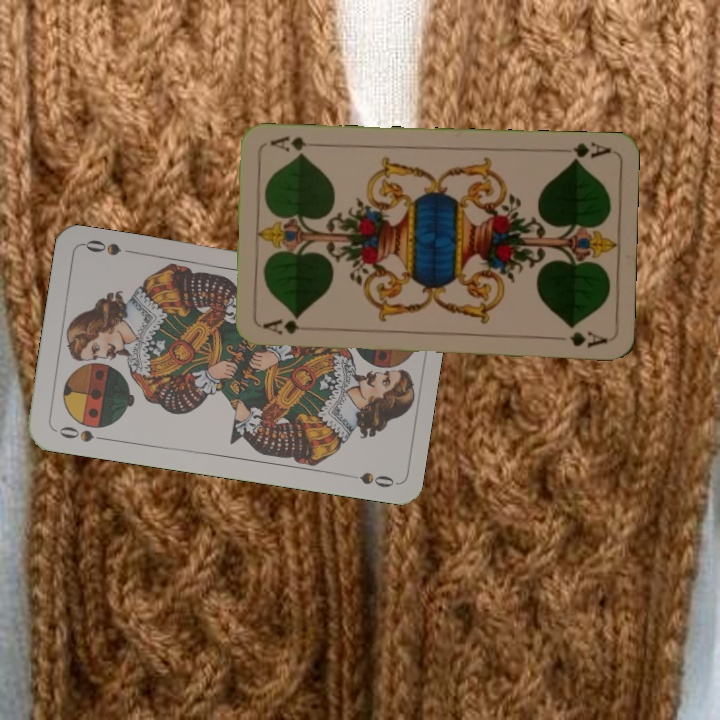GA: (554, 138, 613, 165), (259, 316, 318, 337)
SO: (51, 422, 110, 445)
